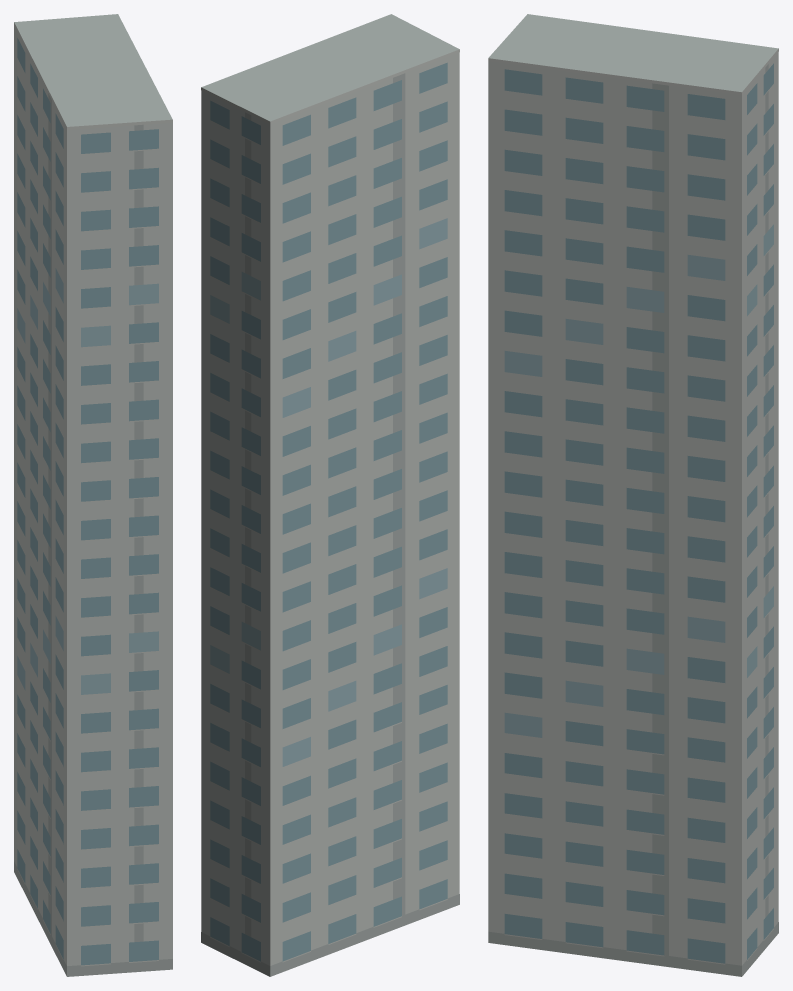
File: survey-upis-32573613.glb
3 views of the same model, side by side, from view 1: azimuth 30°, elevation 25°; view 2: azimuth 150°, elevation 25°; view 3: azimuth 270°, elevation 25° (orthographic). The views are drawn at different scales.
Visible parts, largest first — view 1: survey-upis-32573613.tmp; view 2: survey-upis-32573613.tmp; view 3: survey-upis-32573613.tmp.
Part boxes in pixels (x1,y1,x2,y2): survey-upis-32573613.tmp: (14, 14, 172, 976); survey-upis-32573613.tmp: (201, 14, 459, 976); survey-upis-32573613.tmp: (488, 14, 778, 976).
Bounding box in the file's own units: 12.74 × 67.1 × 19.98.
